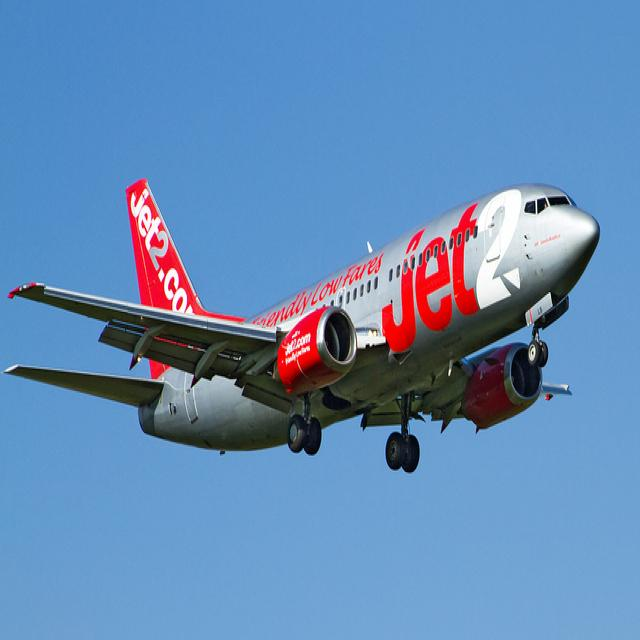airplane: (3, 176, 602, 476)
